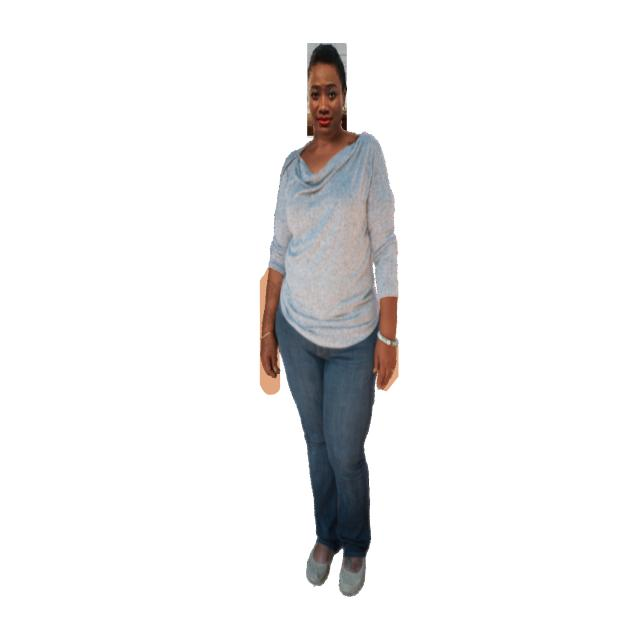jovem: (243, 37, 422, 611)
